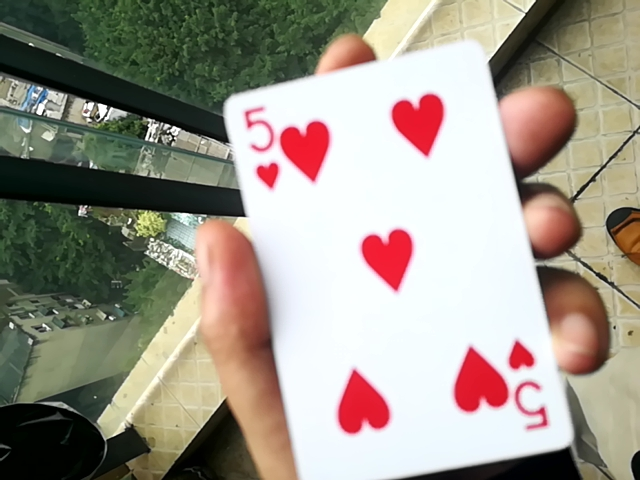hx 5: (209, 42, 567, 480)
